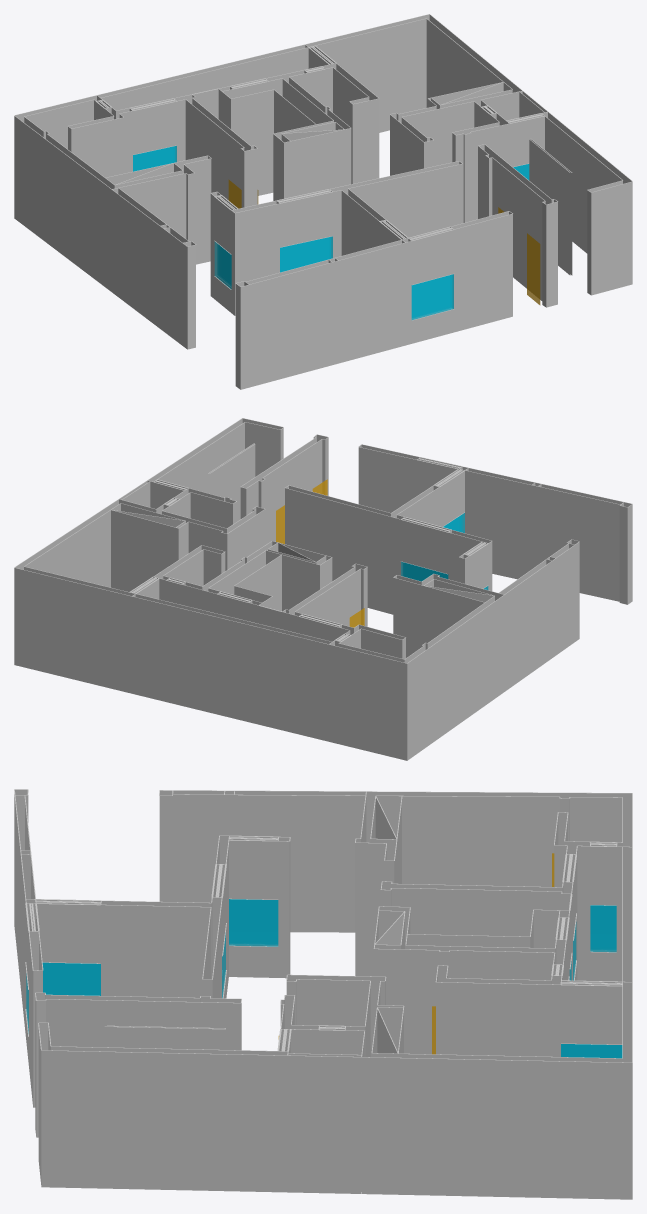
The model's file is ef798227-f58a-4da2-b7d7-93773d3c7129_no_roof.glb.
The picture shows the model from 3 angles, top to bottom: view 1: azimuth 30°, elevation 25°; view 2: azimuth 150°, elevation 25°; view 3: azimuth 270°, elevation 25°; orthographic projection. The views are drawn at different scales.
Parts seen in each view (by area): view 1: walls, windows, doors; view 2: walls, windows, doors; view 3: walls, windows.
Boxes of the visible parts, left/top/right/bottom form: walls: left=14, top=14, right=632, bottom=389; windows: left=133, top=145, right=529, bottom=320; doors: left=228, top=179, right=540, bottom=305; walls: left=14, top=418, right=632, bottom=760; windows: left=401, top=513, right=488, bottom=589; doors: left=276, top=479, right=364, bottom=627; walls: left=14, top=789, right=632, bottom=1199; windows: left=26, top=899, right=622, bottom=1058.
Bounding box in the file's own units: 15.01 × 3.5 × 14.34.
